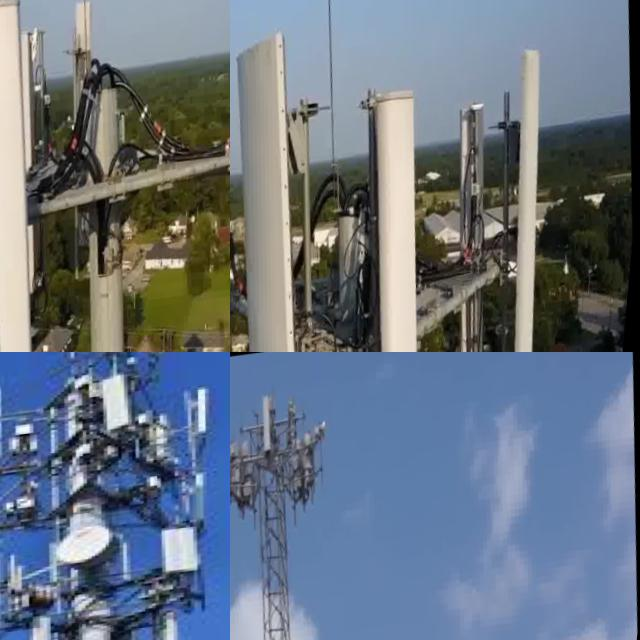GSM Antenna: (230, 16, 366, 352), (467, 30, 591, 352), (333, 75, 470, 352), (0, 0, 88, 352), (437, 98, 523, 352), (230, 134, 266, 352), (153, 520, 217, 584), (92, 370, 146, 434), (252, 392, 283, 461), (31, 616, 64, 640)
Microwave Antenna: (47, 519, 126, 580), (315, 420, 331, 452)
